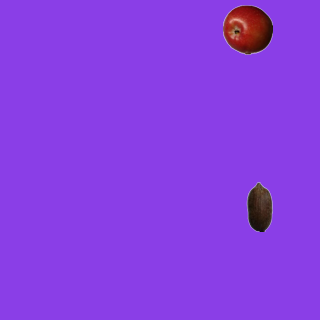Apple Braeburn: (222, 4, 272, 54)
Nut Pecan: (234, 181, 284, 231)
